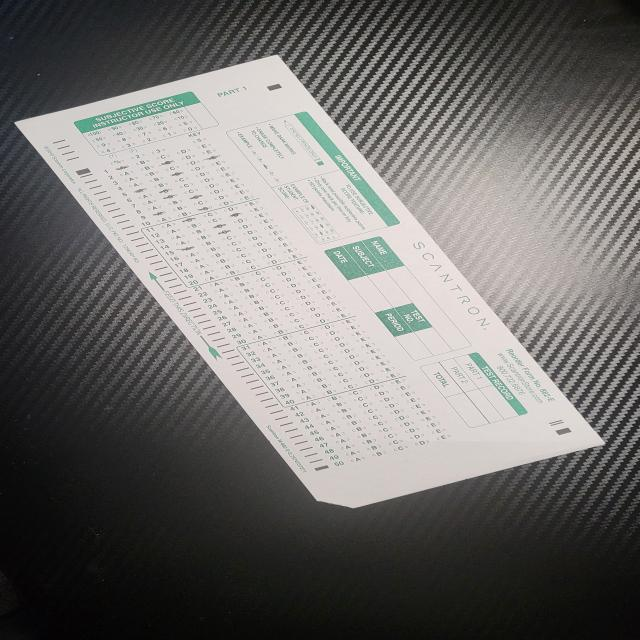scantron: (14, 55, 608, 508)
